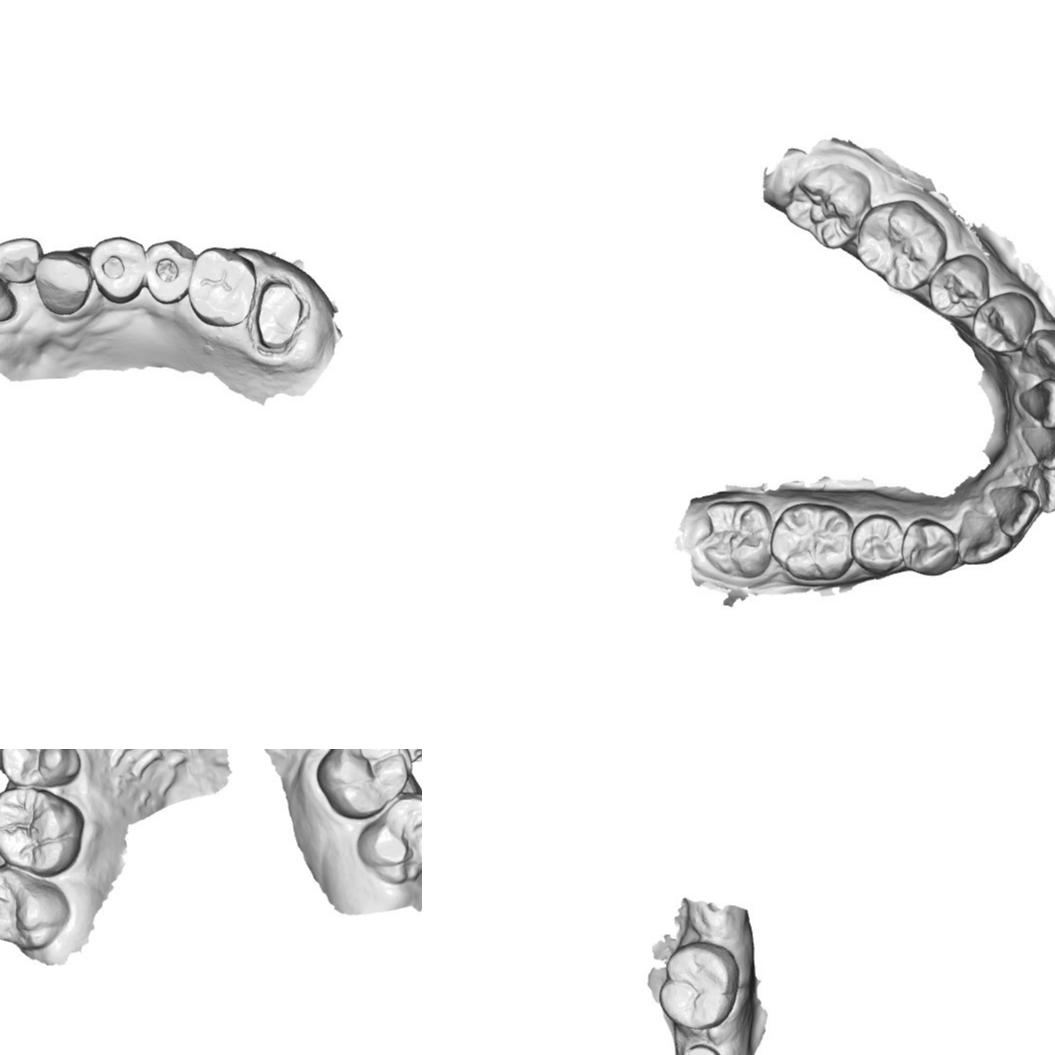canine: (36, 250, 92, 318), (959, 510, 1005, 563), (1026, 323, 1055, 379)
crown: (252, 277, 305, 353)
implant: (680, 1041, 722, 1055)
incisor: (987, 482, 1040, 540), (0, 234, 42, 284), (1018, 460, 1055, 514), (1021, 376, 1055, 432), (1022, 423, 1055, 469), (0, 266, 17, 330)
molar: (0, 787, 87, 875), (313, 749, 414, 824), (855, 205, 941, 286), (789, 165, 871, 244), (772, 503, 853, 578), (355, 798, 422, 887), (701, 498, 775, 578), (661, 944, 731, 1028), (0, 868, 71, 948), (188, 246, 256, 329)
premolar: (88, 234, 147, 306), (0, 749, 84, 791), (931, 254, 986, 318), (975, 295, 1031, 354), (142, 240, 192, 304), (853, 510, 904, 570), (900, 514, 951, 570)
